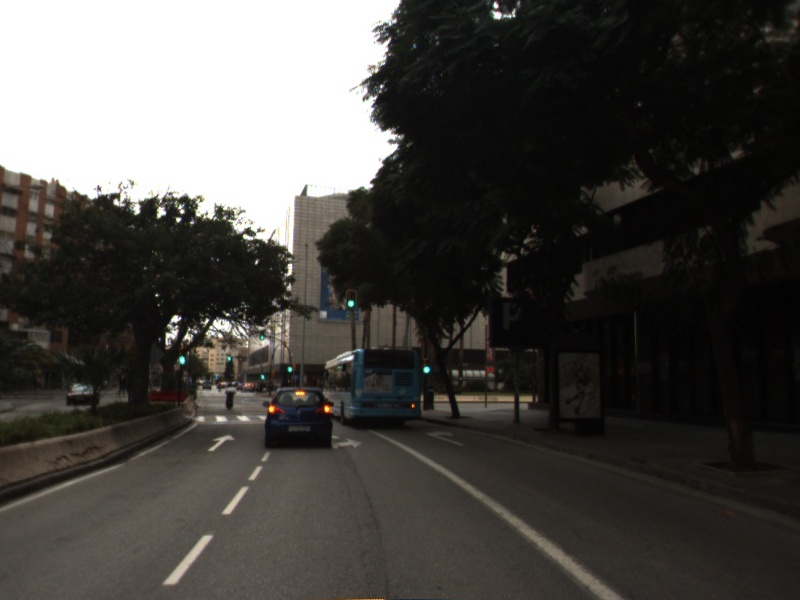RIGHT: (424, 428, 466, 448)
STRAIGHT: (206, 432, 238, 453)
STRAIGHT_RIGHT: (330, 432, 365, 451)
